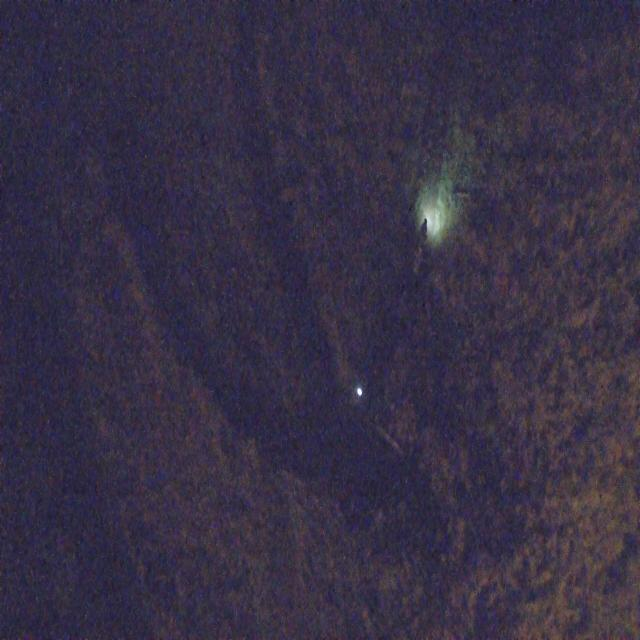p3rson: (420, 218, 428, 244), (352, 391, 359, 409)
